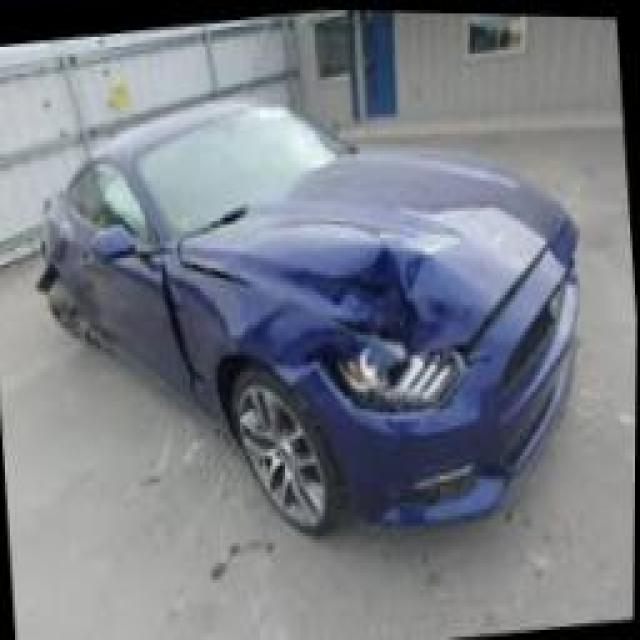replaceable: (251, 250, 470, 324), (331, 330, 458, 405)
